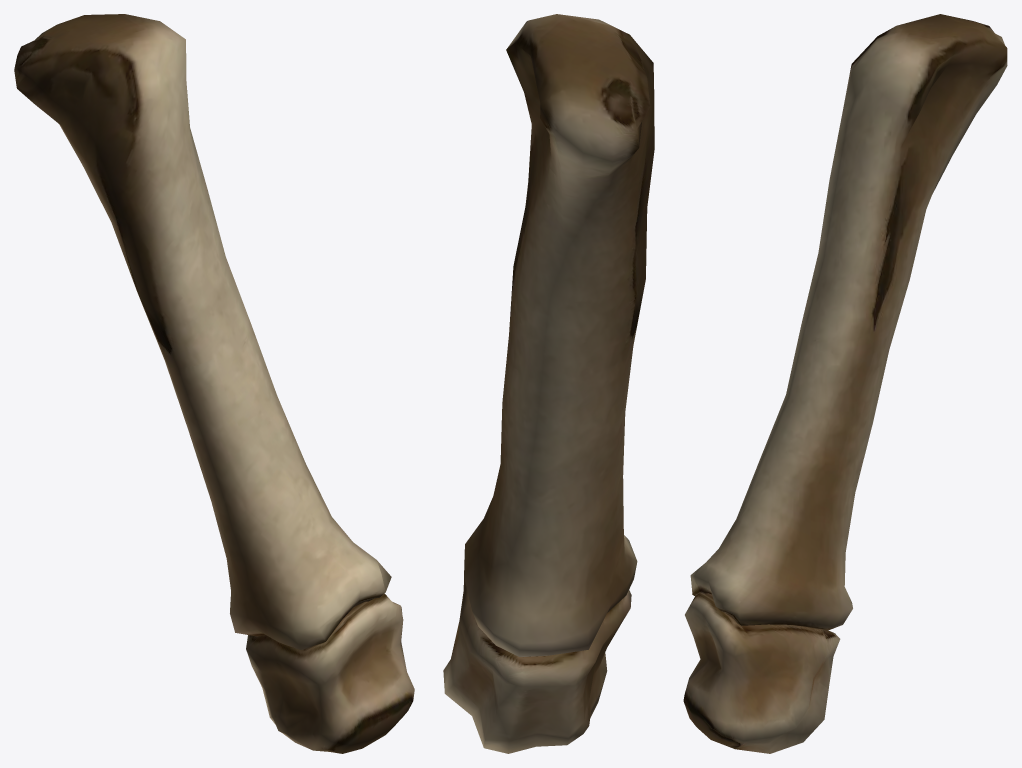
The model's file is Metacarpal_IV.glb.
3 renders of one model, left to right at view 1: azimuth 30°, elevation 25°; view 2: azimuth 150°, elevation 25°; view 3: azimuth 270°, elevation 25°, orthographic. The views are drawn at different scales.
Parts seen in each view (by area): view 1: Metacarpal_IV_Left1:Group20943; view 2: Metacarpal_IV_Left1:Group20943; view 3: Metacarpal_IV_Left1:Group20943.
Boxes of the visible parts, x1,y1,x2,y2 form: Metacarpal_IV_Left1:Group20943: [14, 14, 414, 753]; Metacarpal_IV_Left1:Group20943: [443, 14, 654, 753]; Metacarpal_IV_Left1:Group20943: [683, 14, 1007, 753].
Bounding box in the file's own units: 21.36 × 52.06 × 23.23.
Materials: 1 (1 with a texture image).
